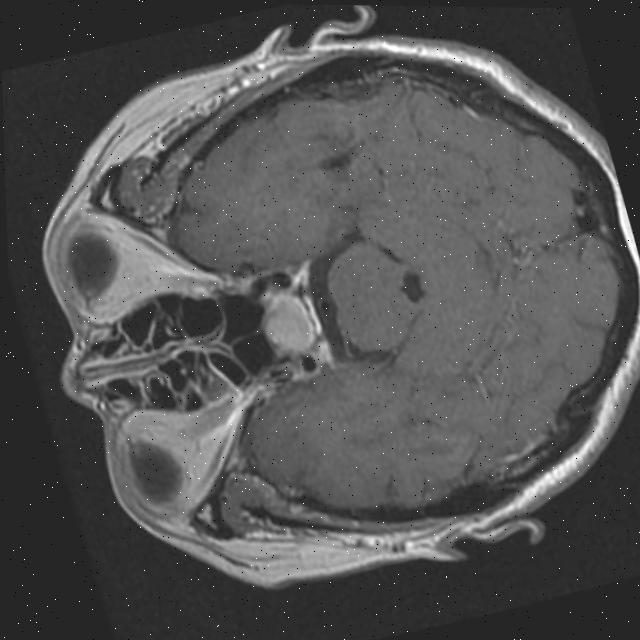Pituitary: (249, 275, 319, 362)
